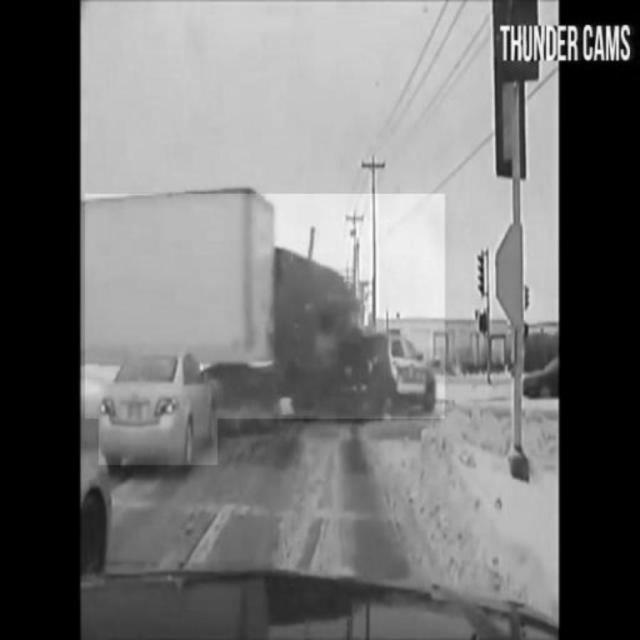accident: (86, 195, 446, 419)
vehicle: (99, 350, 217, 466)
